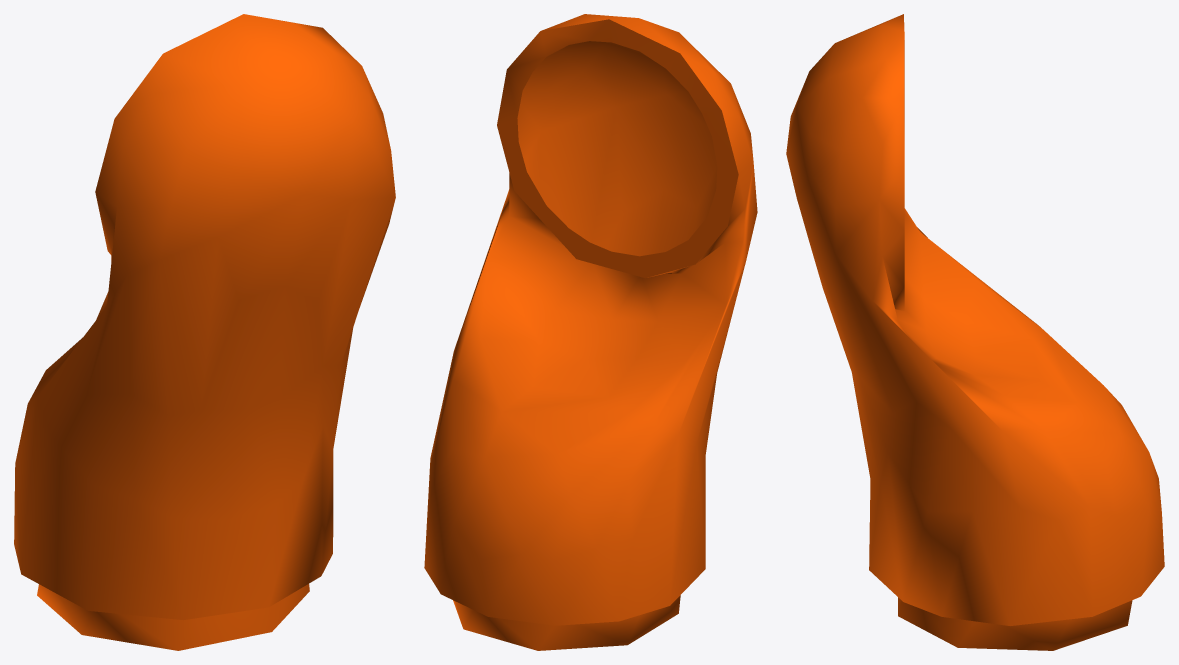
The picture shows the model from 3 angles, left to right: view 1: azimuth 30°, elevation 25°; view 2: azimuth 150°, elevation 25°; view 3: azimuth 270°, elevation 25°; orthographic projection. The views are drawn at different scales.
Parts seen in each view (by area): view 1: link5_object.006; view 2: link5_object.006; view 3: link5_object.006.
Boxes of the visible parts, x1=… form: link5_object.006: x1=14, y1=14, x2=395, y2=650; link5_object.006: x1=424, y1=14, x2=757, y2=650; link5_object.006: x1=786, y1=14, x2=1164, y2=650.
Bounding box in the file's own units: 0.1217 × 0.2593 × 0.1553.
